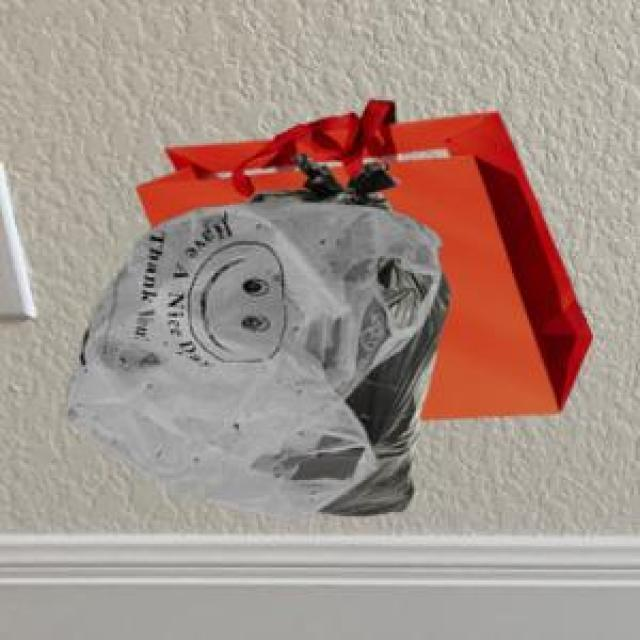miscellaneous trash: (243, 149, 446, 512)
paper: (132, 96, 589, 416)
